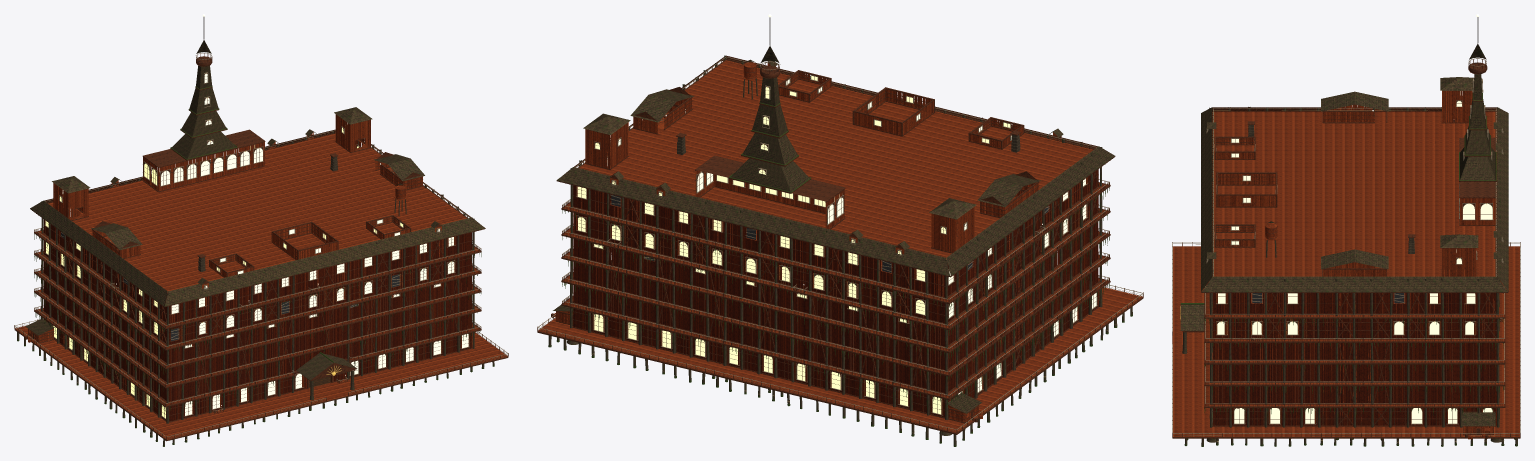
Rendered from sp_shell.glb.
The picture shows the model from 3 angles, left to right: view 1: azimuth 30°, elevation 25°; view 2: azimuth 150°, elevation 25°; view 3: azimuth 270°, elevation 25°; orthographic projection. The views are drawn at different scales.
Parts seen in each view (by area): view 1: spire; view 2: spire; view 3: spire.
Boxes of the visible parts, box(x1,y1,x2,y2) form: spire: box(14, 14, 508, 446); spire: box(537, 14, 1143, 446); spire: box(1172, 14, 1520, 446).
Size of the model in its own units: 138 by 113 by 104.
Materials: 16 (13 with a texture image).
